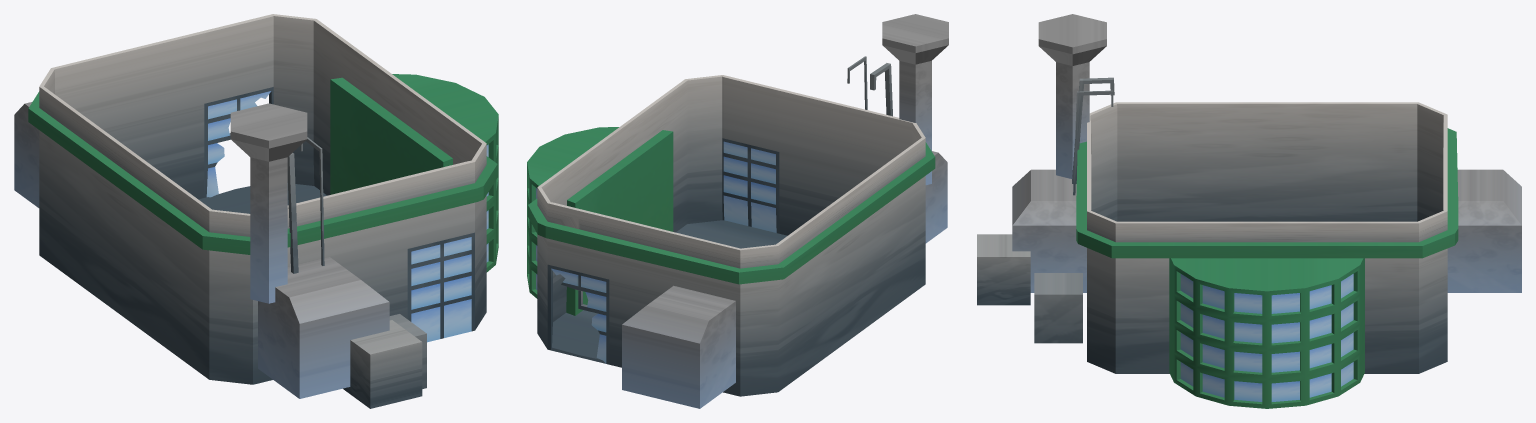
File: Hotel_Bottom1.fbx
The picture shows the model from 3 angles, left to right: view 1: azimuth 30°, elevation 25°; view 2: azimuth 150°, elevation 25°; view 3: azimuth 270°, elevation 25°; orthographic projection. The views are drawn at different scales.
Parts seen in each view (by area): view 1: pCube15; view 2: pCube15; view 3: pCube15.
Boxes of the visible parts, x1,y1,x2,y2 form: pCube15: (14,14,498,408); pCube15: (527,14,948,408); pCube15: (977,14,1521,408).
Bounding box in the file's own units: 3570 × 2622 × 5115.
